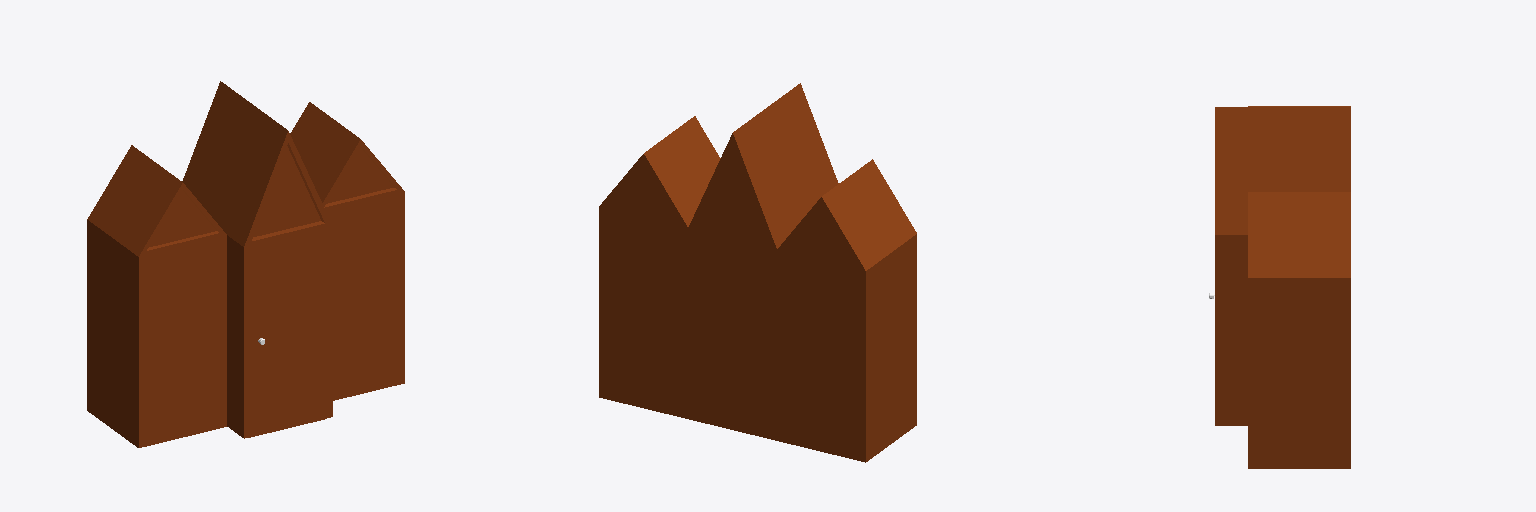
Rendered from confessional+2.obj.
3 renders of one model, left to right at view 1: azimuth 30°, elevation 25°; view 2: azimuth 150°, elevation 25°; view 3: azimuth 270°, elevation 25°, orthographic.
Visible parts, largest first — view 1: Mesh2 confessional_booth_2_1 Model; view 2: Mesh2 confessional_booth_2_1 Model; view 3: Mesh2 confessional_booth_2_1 Model.
Part boxes in pixels (x1,y1,x2,y2): Mesh2 confessional_booth_2_1 Model: (87, 81, 404, 447); Mesh2 confessional_booth_2_1 Model: (599, 83, 916, 462); Mesh2 confessional_booth_2_1 Model: (1215, 106, 1350, 468).
Size of the model in its own units: 105 by 112 by 48.25.